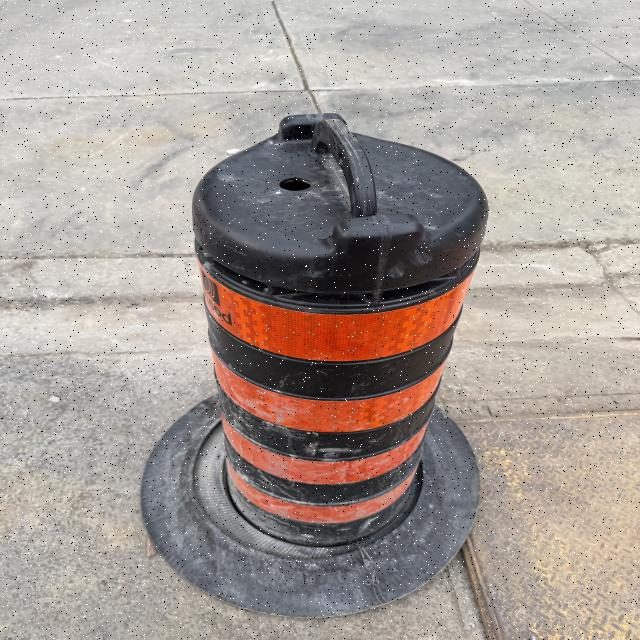Teraffic Barrel: (143, 114, 487, 615)
